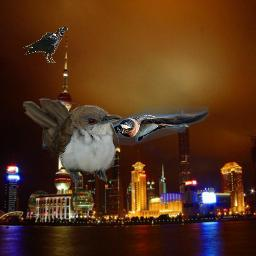Crow: (22, 27, 68, 63)
Cuckoo: (23, 98, 122, 186)
Swallow: (42, 106, 209, 149)
